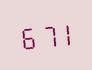one: (55, 19, 72, 47)
seven: (37, 20, 54, 49)
six: (18, 22, 35, 50)
